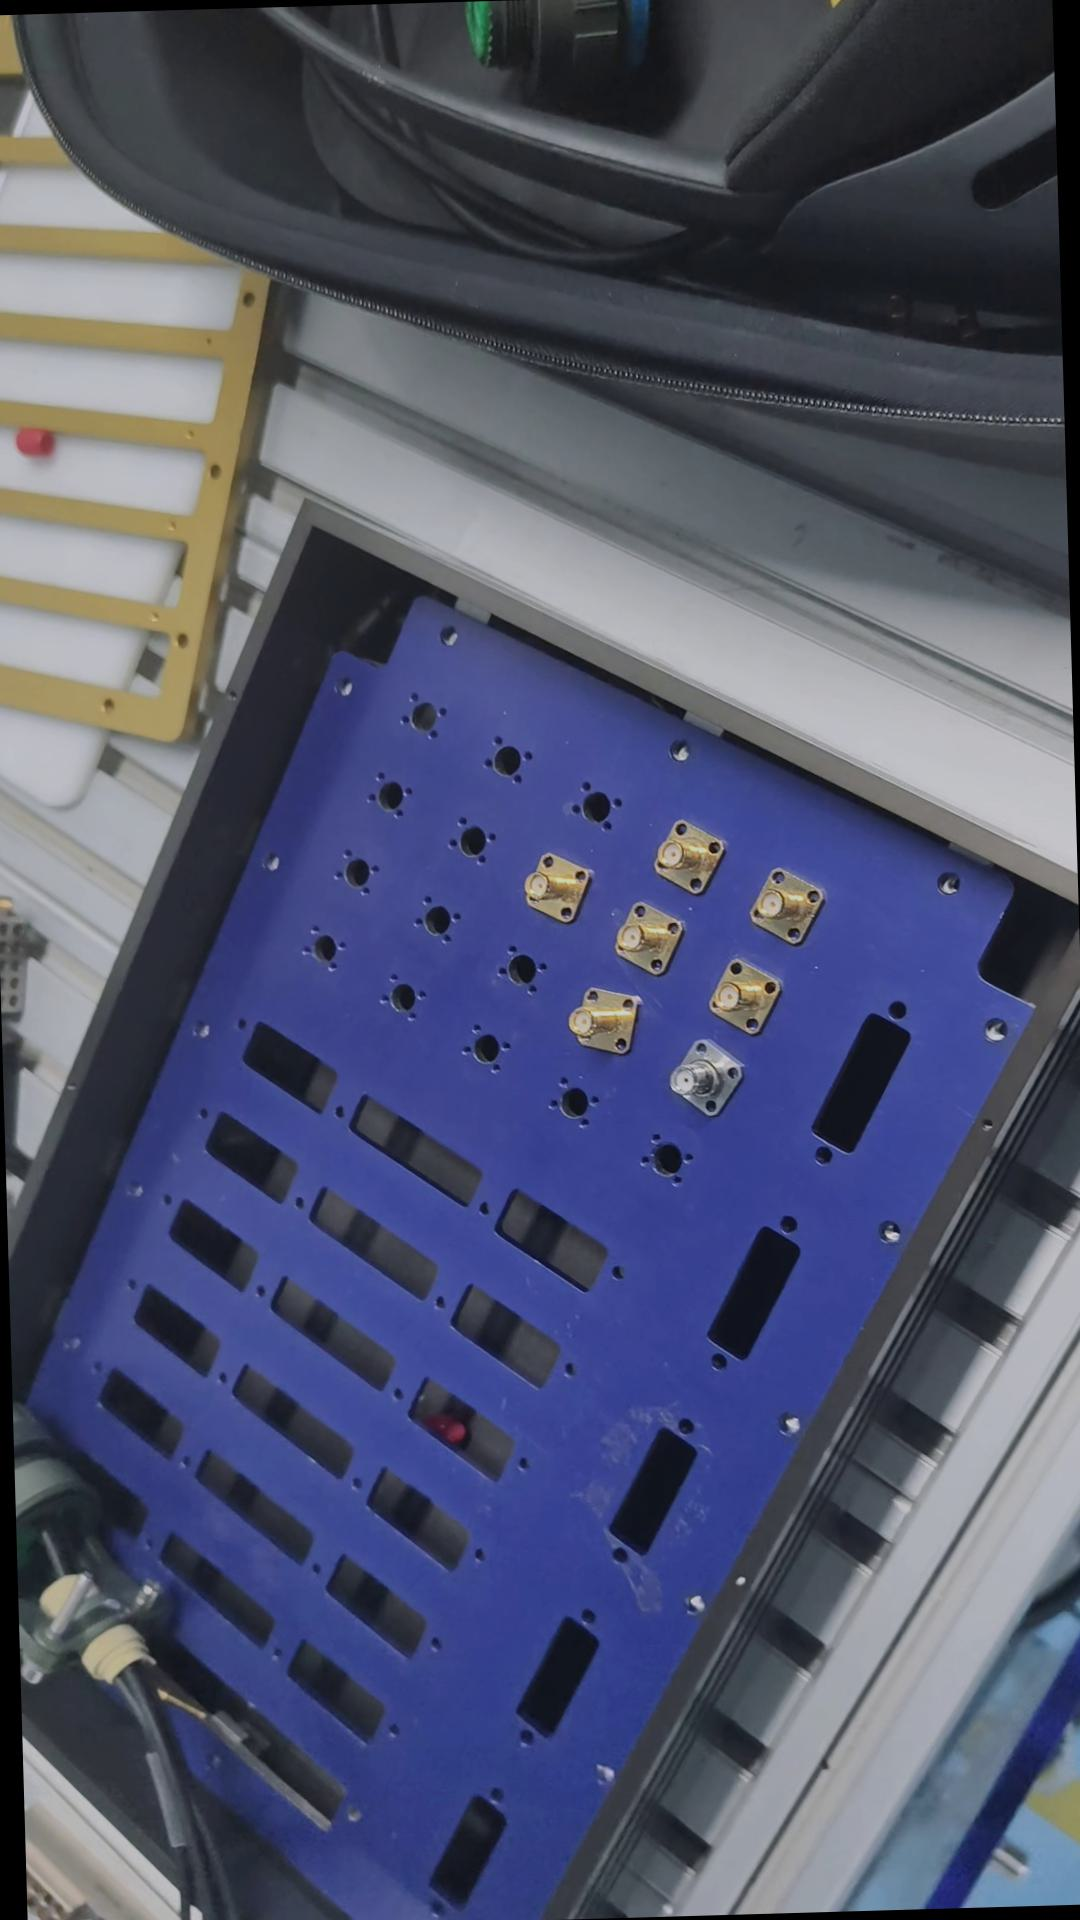SMA: (661, 1034, 745, 1116), (607, 897, 691, 977), (516, 848, 597, 928), (703, 956, 785, 1033), (742, 869, 825, 944), (646, 814, 723, 894), (559, 981, 637, 1059)
